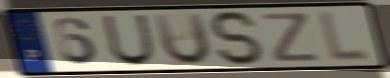6: (52, 16, 99, 67)
L: (318, 9, 373, 64)
S: (206, 9, 269, 68)
U: (150, 11, 214, 68), (99, 13, 157, 68)
Z: (259, 11, 322, 64)
